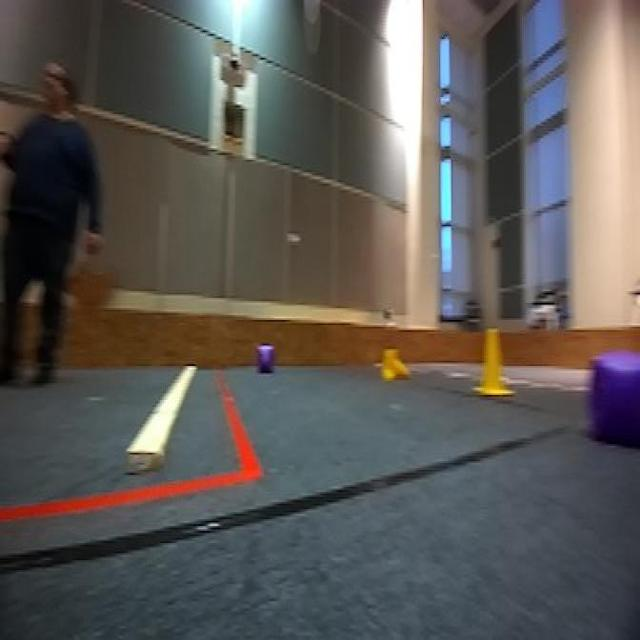frc_cone: (474, 323, 512, 400), (376, 344, 411, 383)
frc_cube: (588, 352, 640, 444), (254, 344, 276, 376)
